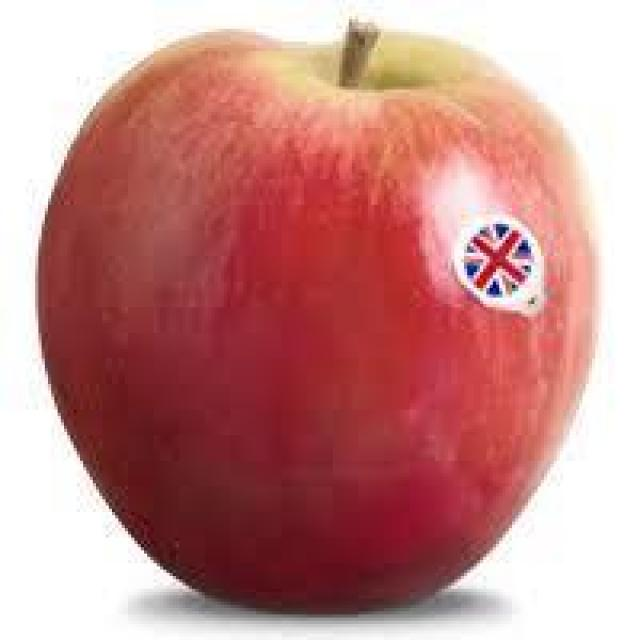maca: (32, 13, 598, 614)
